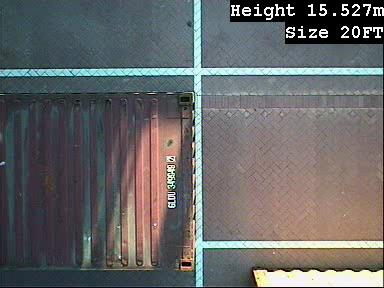groundmarker_2: (132, 74, 233, 123)
